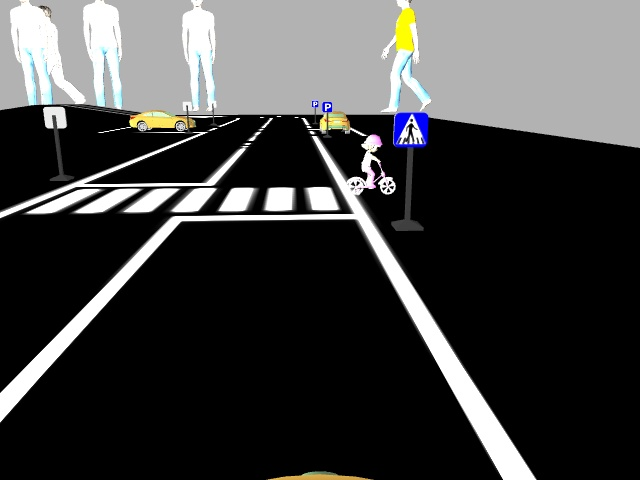Crosswalk: (394, 111, 428, 145)
Parking: (322, 102, 330, 111)
Pedestrian: (342, 132, 397, 196)
